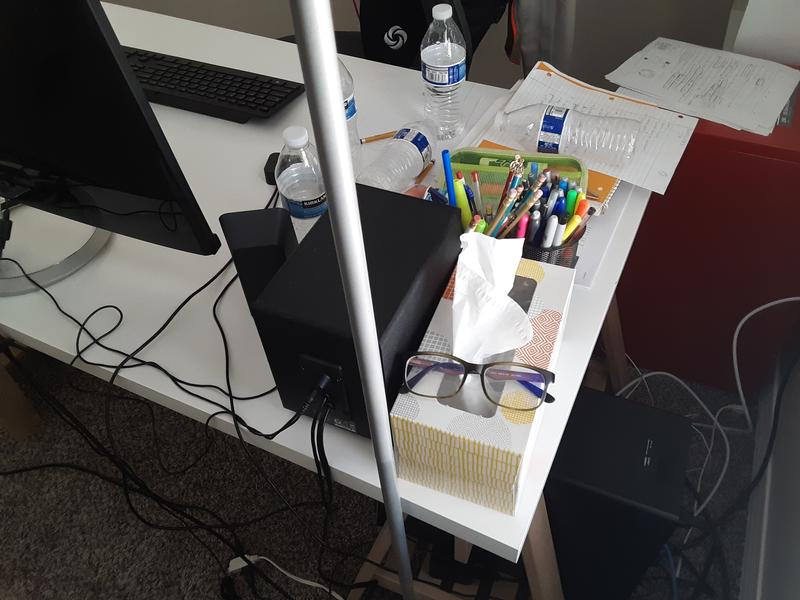glasses: (396, 350, 557, 412)
